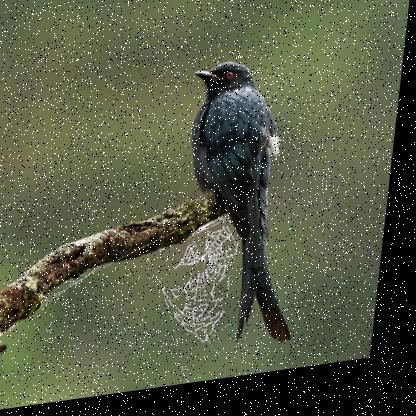Burung: (169, 55, 328, 367)
